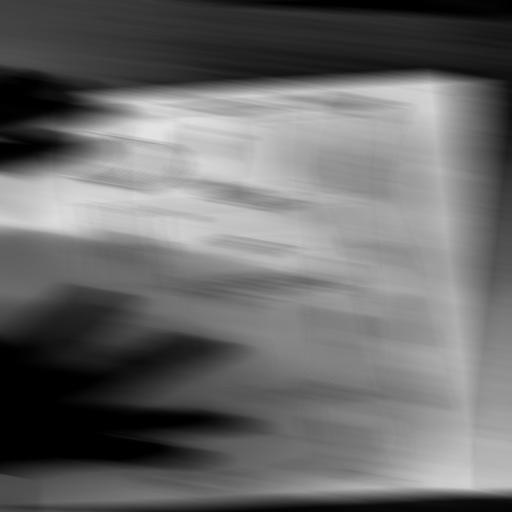bus: (51, 60, 450, 512)
top_left: (449, 69, 482, 80)
